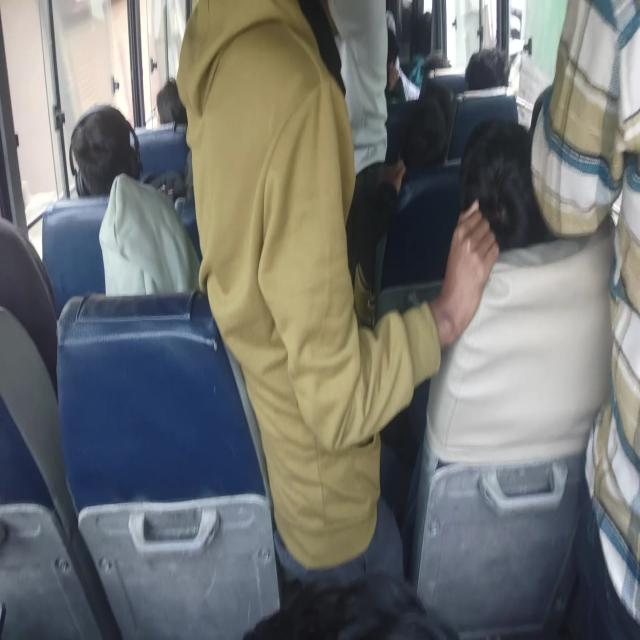person: (164, 0, 366, 319), (547, 5, 640, 536), (454, 114, 558, 275), (100, 191, 186, 310), (325, 0, 395, 143), (0, 216, 46, 395), (75, 101, 144, 197), (466, 40, 518, 109), (157, 69, 199, 131), (421, 10, 447, 57), (424, 47, 448, 92), (382, 38, 404, 82)
